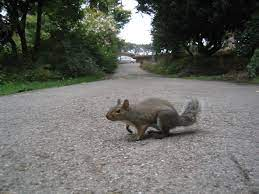squirrel: (106, 96, 202, 140)
